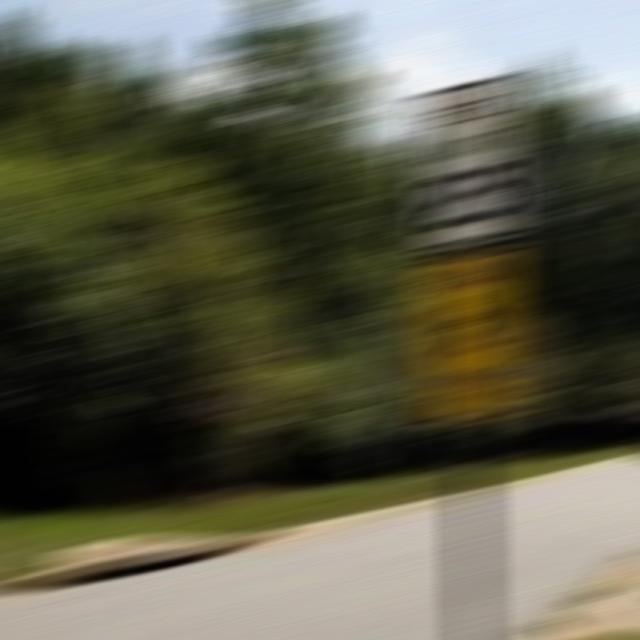speedLimit25: (408, 81, 524, 239)
